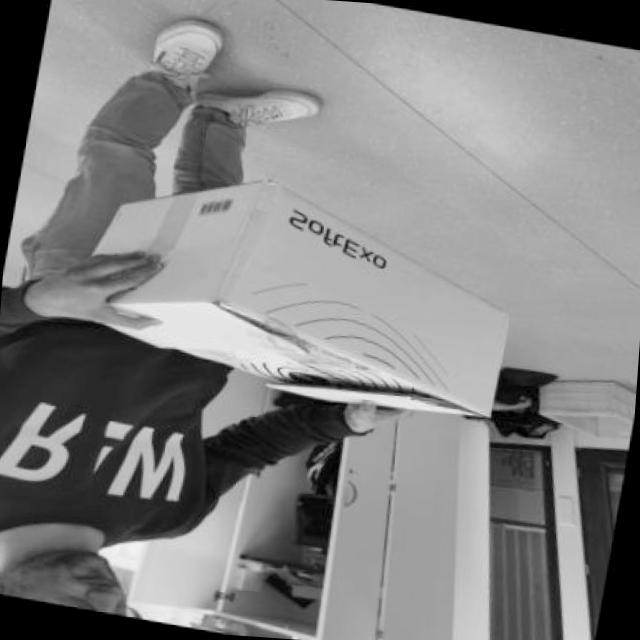box: (44, 146, 538, 437), (526, 366, 637, 457)
